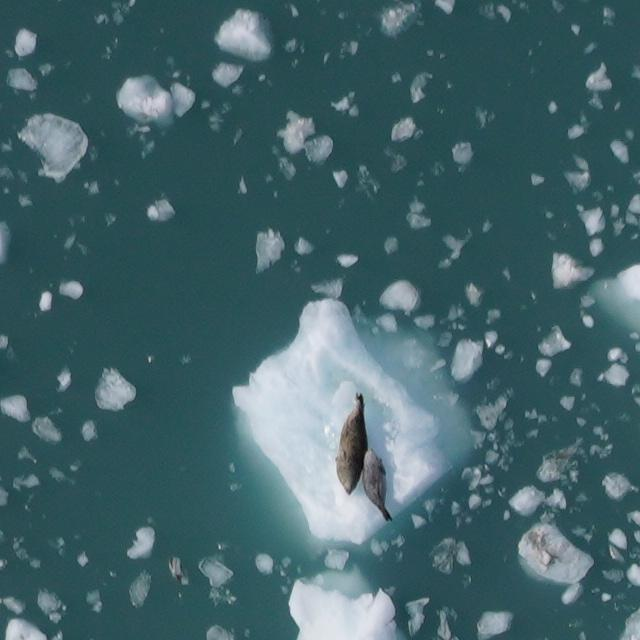seal: (335, 391, 367, 495), (360, 448, 389, 521)
